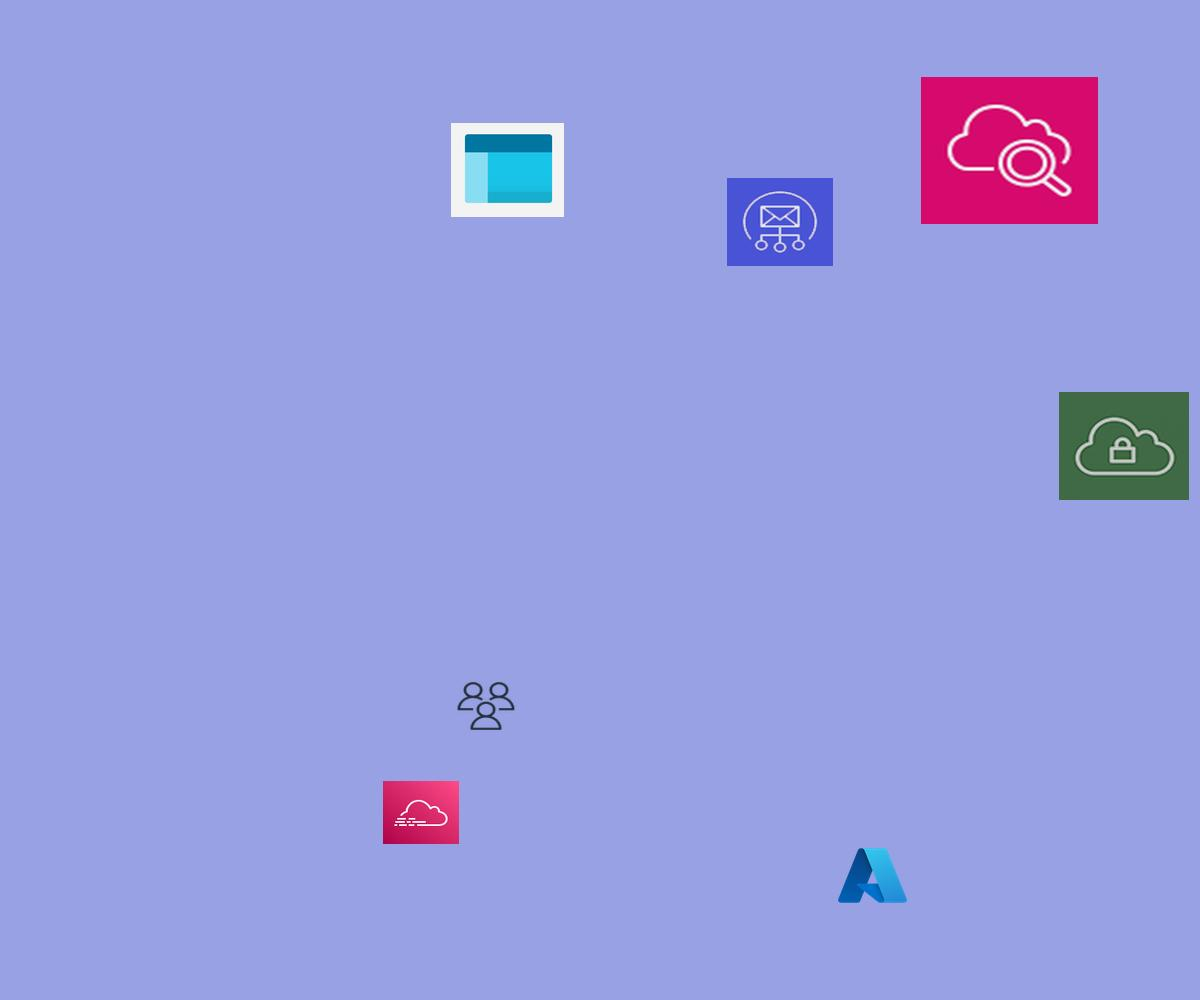AWS-CloudTrail: (383, 781, 459, 844)
AWS-CloudWatch: (921, 77, 1098, 224)
AWS-Private_vpc: (1059, 392, 1189, 500)
AWS-Res_Users: (455, 680, 517, 732)
AWS-Simple-Email-Service: (727, 178, 833, 266)
Azure_management-portal: (451, 123, 564, 217)
Azure_services: (835, 844, 910, 907)
